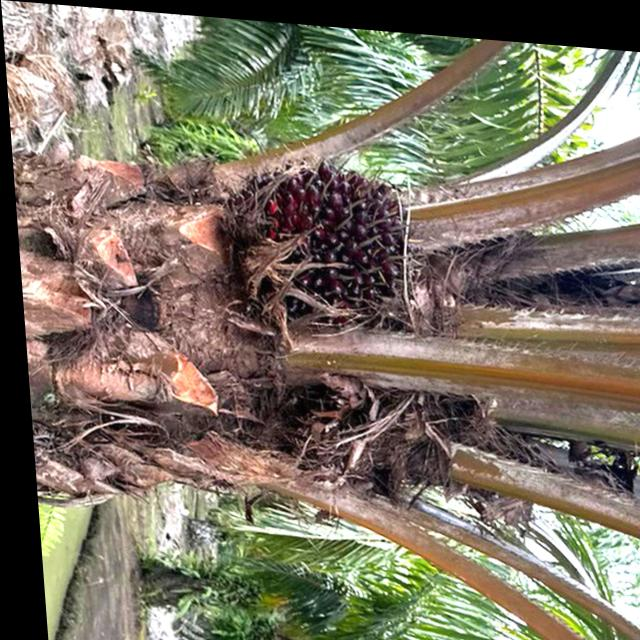ripe: (227, 136, 436, 353)
